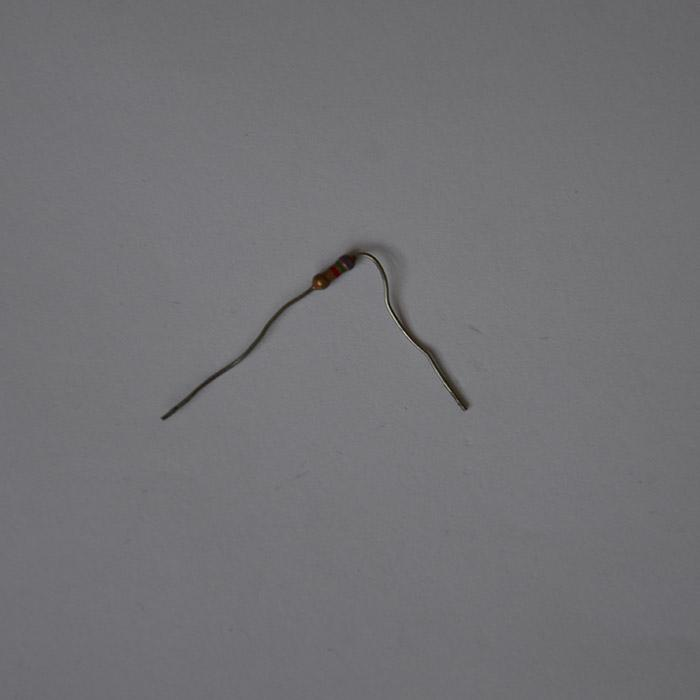resistor: (312, 253, 356, 290)
